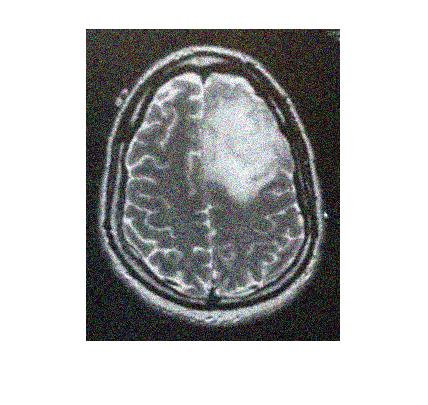Brain_Cancer: (210, 84, 288, 189)
